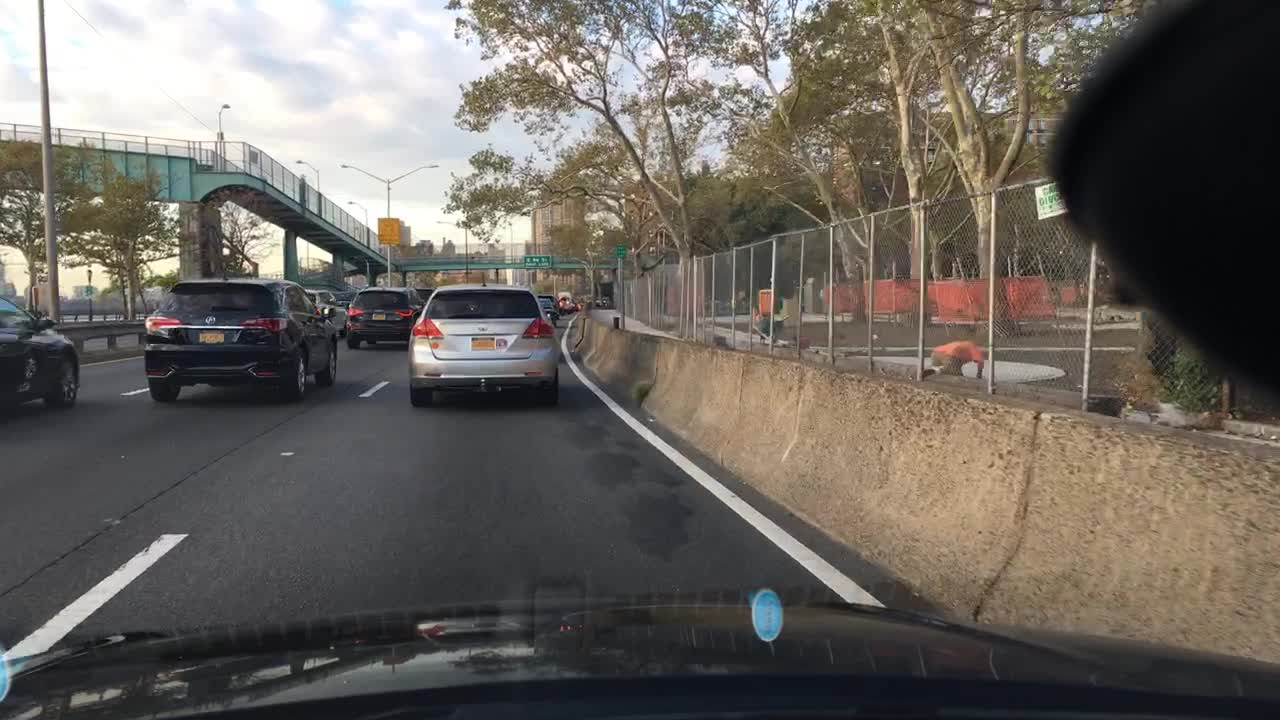car: (144, 277, 335, 401), (411, 285, 556, 403), (0, 296, 77, 406), (346, 289, 424, 351), (306, 289, 348, 335), (540, 295, 561, 331), (585, 295, 601, 308), (561, 291, 572, 309), (572, 298, 585, 311), (602, 296, 611, 306)
person: (923, 338, 985, 382)
traffic sign: (378, 218, 398, 245), (524, 255, 549, 267), (616, 247, 627, 257)
